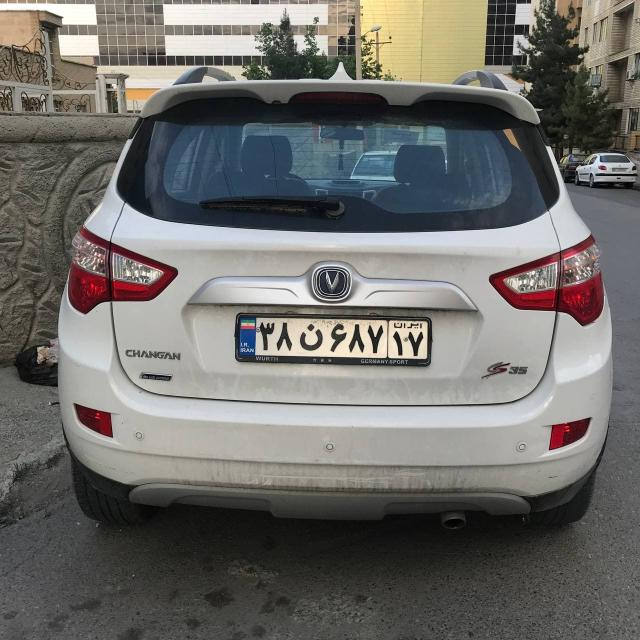Plates: (239, 317, 428, 359)
